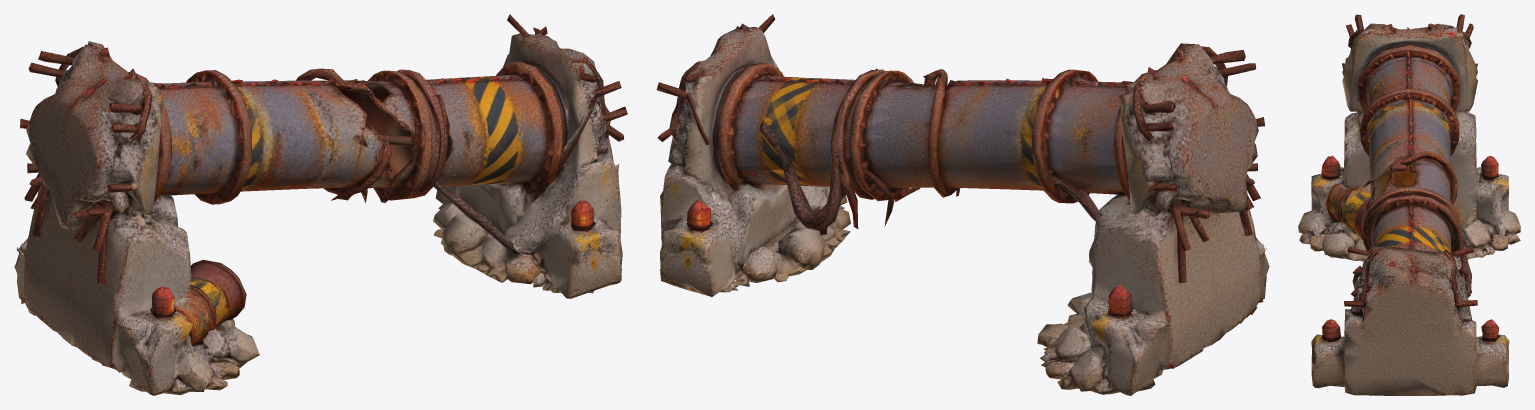
Rendered from slide_rusty_industrial_pipeline.glb.
3 views of the same model, side by side, from view 1: azimuth 30°, elevation 25°; view 2: azimuth 150°, elevation 25°; view 3: azimuth 270°, elevation 25° (orthographic). The views are drawn at different scales.
Visible parts, largest first — view 1: tripo_node_d295a8d8-569f-4e91-881f-f3d1438f8b4d; view 2: tripo_node_d295a8d8-569f-4e91-881f-f3d1438f8b4d; view 3: tripo_node_d295a8d8-569f-4e91-881f-f3d1438f8b4d.
Boxes of the visible parts, x1,y1,x2,y2 form: tripo_node_d295a8d8-569f-4e91-881f-f3d1438f8b4d: (14,14,627,395); tripo_node_d295a8d8-569f-4e91-881f-f3d1438f8b4d: (656,14,1269,395); tripo_node_d295a8d8-569f-4e91-881f-f3d1438f8b4d: (1298,14,1520,395).
Size of the model in its own units: 1 by 0.5103 by 0.485.
1 material, 1 textured.
